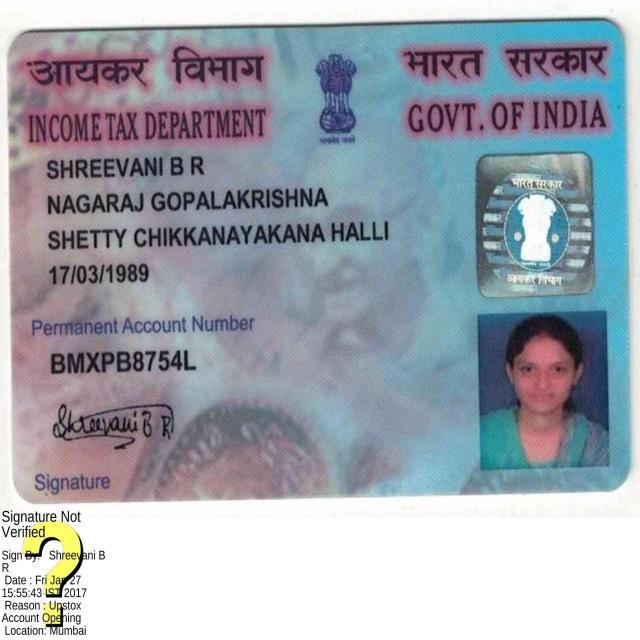pan_card: (14, 31, 620, 500)
